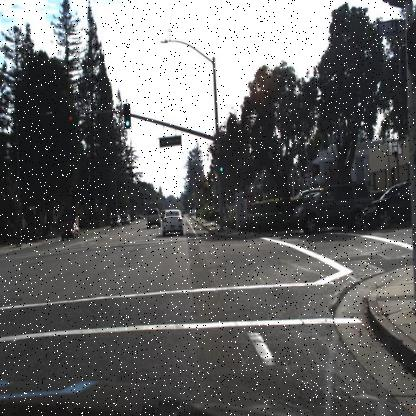car: (286, 181, 374, 236), (292, 179, 374, 235), (359, 180, 415, 233), (162, 209, 184, 237), (291, 182, 322, 198), (60, 220, 79, 241), (62, 222, 79, 242), (146, 204, 160, 225), (110, 211, 122, 227), (110, 214, 121, 228), (158, 205, 169, 219), (122, 214, 132, 228), (121, 212, 130, 224)
trafficLight-Green: (122, 102, 131, 130), (216, 151, 224, 175), (216, 158, 224, 178), (124, 102, 129, 126)
trafficLight-RedLeft: (66, 112, 74, 132), (68, 110, 73, 135)
